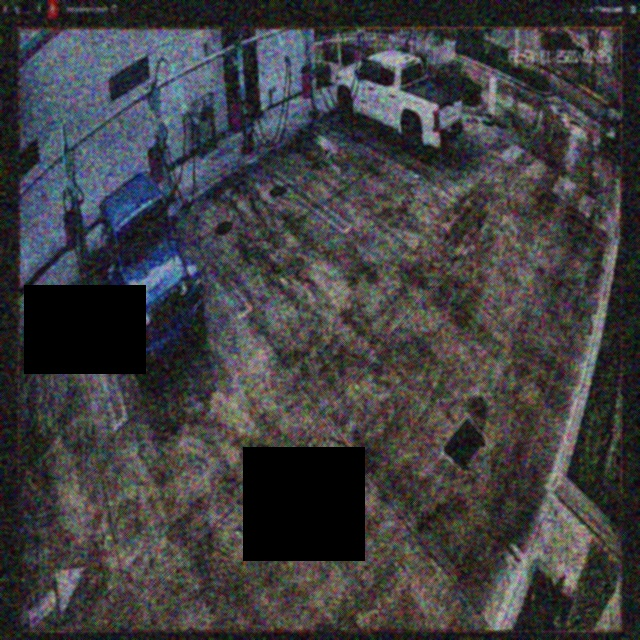Car: (83, 172, 199, 375), (338, 52, 458, 163)
